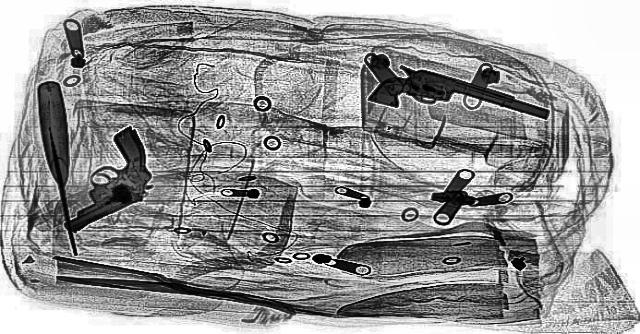Gun: (0, 126, 212, 227), (359, 62, 559, 142)
Knife: (30, 80, 90, 254)
